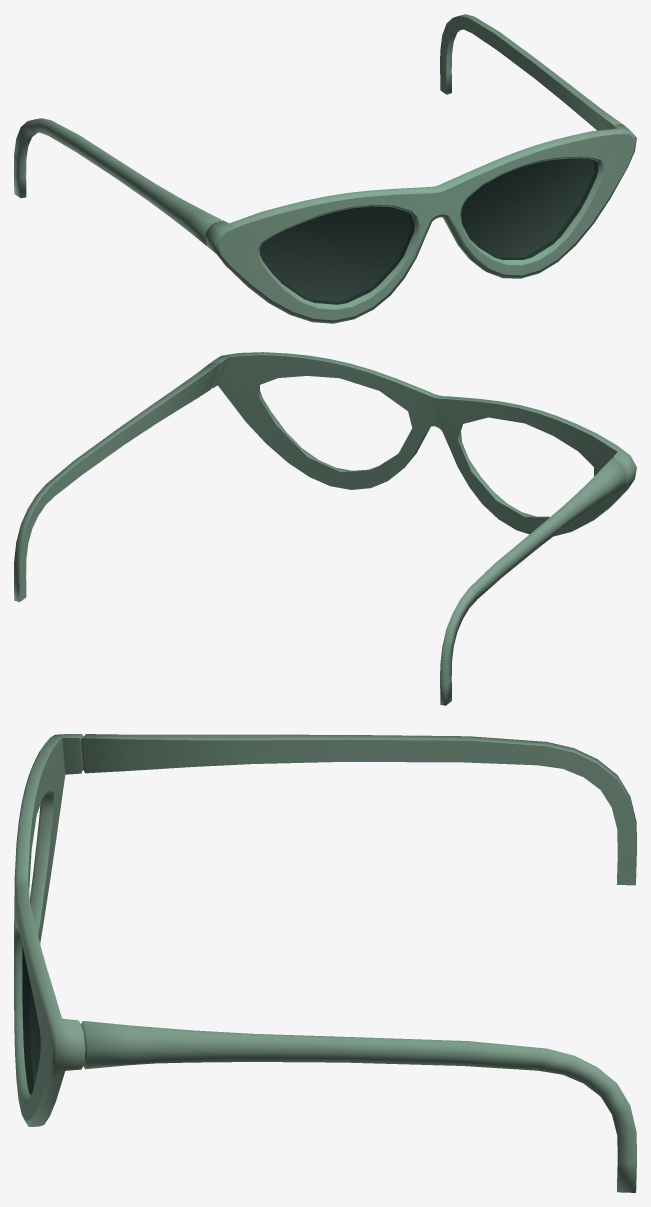
3 views of the same model, one above another, from view 1: azimuth 30°, elevation 25°; view 2: azimuth 150°, elevation 25°; view 3: azimuth 270°, elevation 25° (orthographic). The views are drawn at different scales.
Parts seen in each view (by area): view 1: Wolf3D_Glasses; view 2: Wolf3D_Glasses; view 3: Wolf3D_Glasses.
Part boxes in pixels (left/top/right/bottom): Wolf3D_Glasses: left=14, top=14, right=636, bottom=323; Wolf3D_Glasses: left=14, top=352, right=636, bottom=705; Wolf3D_Glasses: left=14, top=734, right=636, bottom=1192.
Size of the model in its own units: 0.1603 by 0.0443 by 0.1352.
1 material, 1 textured.
